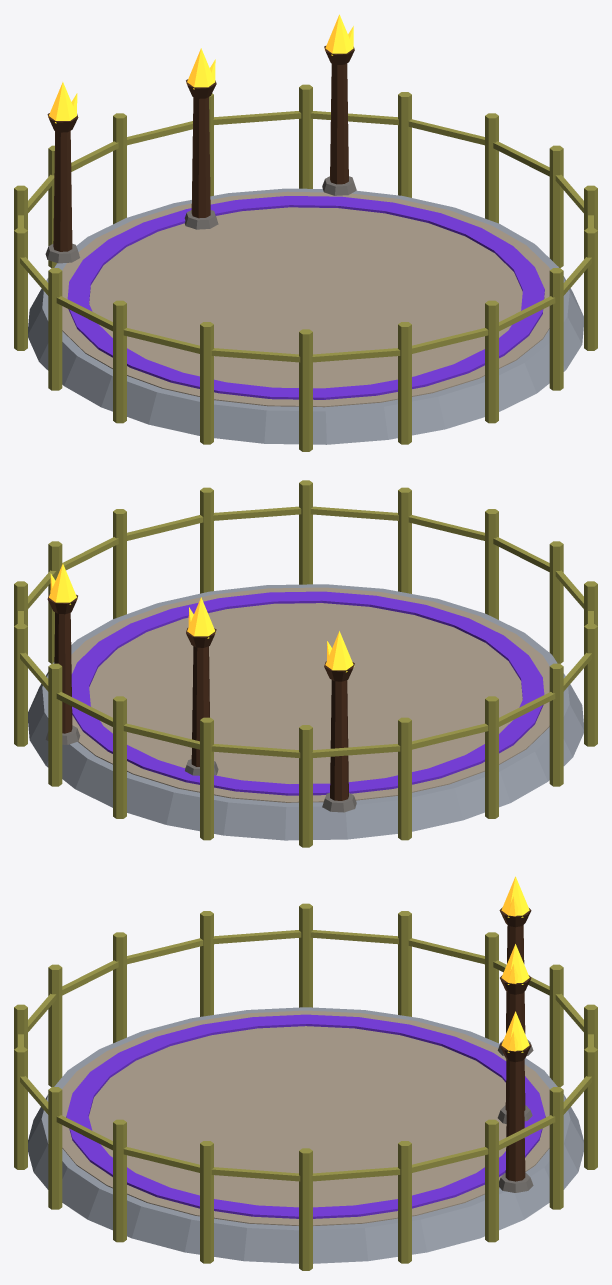
File: panggung_uji_v001.glb
3 views of the same model, one above another, from view 1: azimuth 30°, elevation 25°; view 2: azimuth 150°, elevation 25°; view 3: azimuth 270°, elevation 25° (orthographic).
Parts seen in each view (by area): view 1: Arena_Uji, Pagar_Uji, Cincin_Aksen, Api_2_Nyala, Api_3_Nyala, Api_1_Nyala; view 2: Arena_Uji, Pagar_Uji, Cincin_Aksen, Api_2_Nyala, Api_3_Nyala, Api_1_Nyala; view 3: Arena_Uji, Pagar_Uji, Cincin_Aksen, Api_1_Nyala, Api_3_Nyala, Api_2_Nyala.
Boxes of the visible parts, x1,y1,x2,y2 form: Arena_Uji: (28, 46, 583, 444); Pagar_Uji: (14, 84, 597, 451); Cincin_Aksen: (67, 196, 544, 399); Api_2_Nyala: (186, 48, 215, 89); Api_3_Nyala: (324, 14, 353, 55); Api_1_Nyala: (48, 82, 77, 123); Arena_Uji: (28, 584, 583, 840); Pagar_Uji: (14, 480, 597, 847); Cincin_Aksen: (71, 591, 544, 795); Api_2_Nyala: (187, 597, 215, 638); Api_3_Nyala: (49, 563, 77, 604); Api_1_Nyala: (325, 631, 354, 672); Arena_Uji: (28, 907, 583, 1263); Pagar_Uji: (14, 903, 597, 1270); Cincin_Aksen: (66, 1014, 545, 1218); Api_1_Nyala: (501, 876, 529, 917); Api_3_Nyala: (501, 1011, 529, 1052); Api_2_Nyala: (501, 944, 529, 984).
Bounding box in the file's own units: 5.92 × 2.24 × 5.85.
